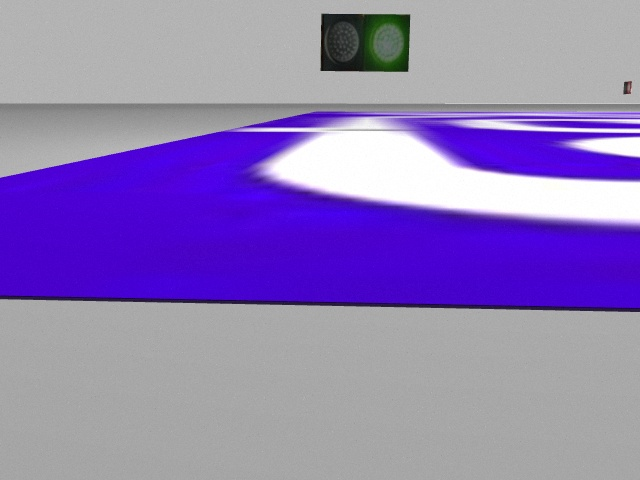green: (365, 14, 408, 72)
